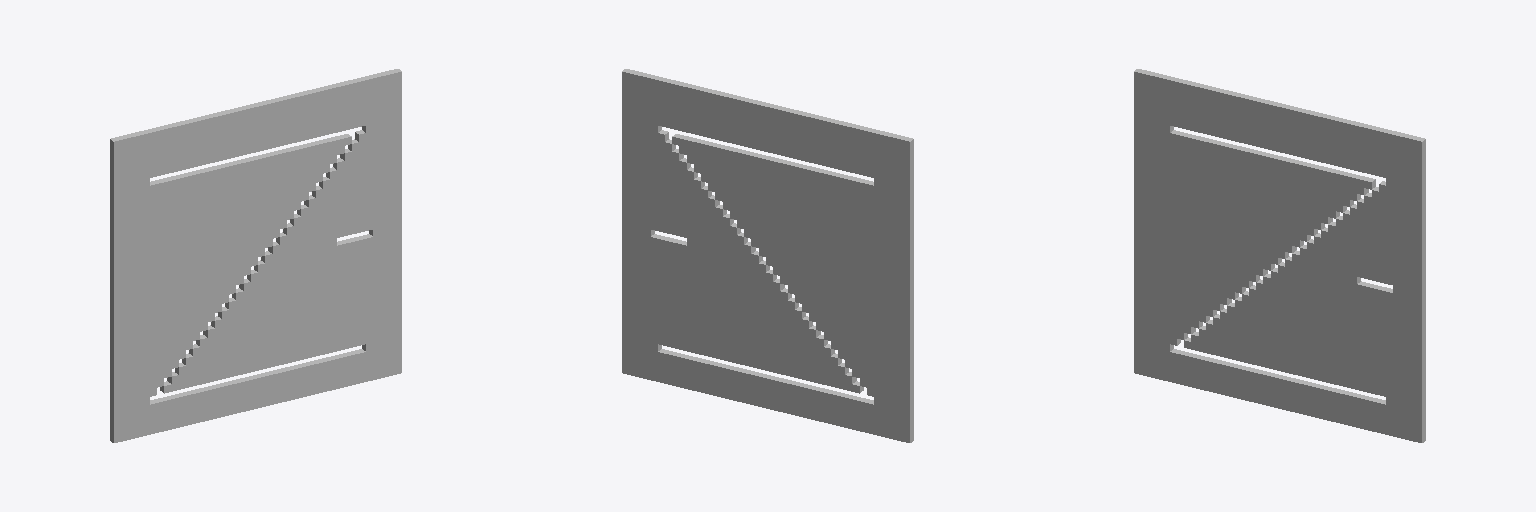
Rendered from Z negativo.obj.
3 renders of one model, left to right at view 1: azimuth 30°, elevation 25°; view 2: azimuth 150°, elevation 25°; view 3: azimuth 330°, elevation 25°, orthographic.
Visible parts, largest first — view 1: object 1; view 2: object 1; view 3: object 1.
Boxes of the visible parts, x1=… form: object 1: x1=110, y1=69, x2=401, y2=442; object 1: x1=622, y1=69, x2=913, y2=442; object 1: x1=1134, y1=69, x2=1425, y2=442.
Size of the model in its own units: 4 by 4 by 0.1.